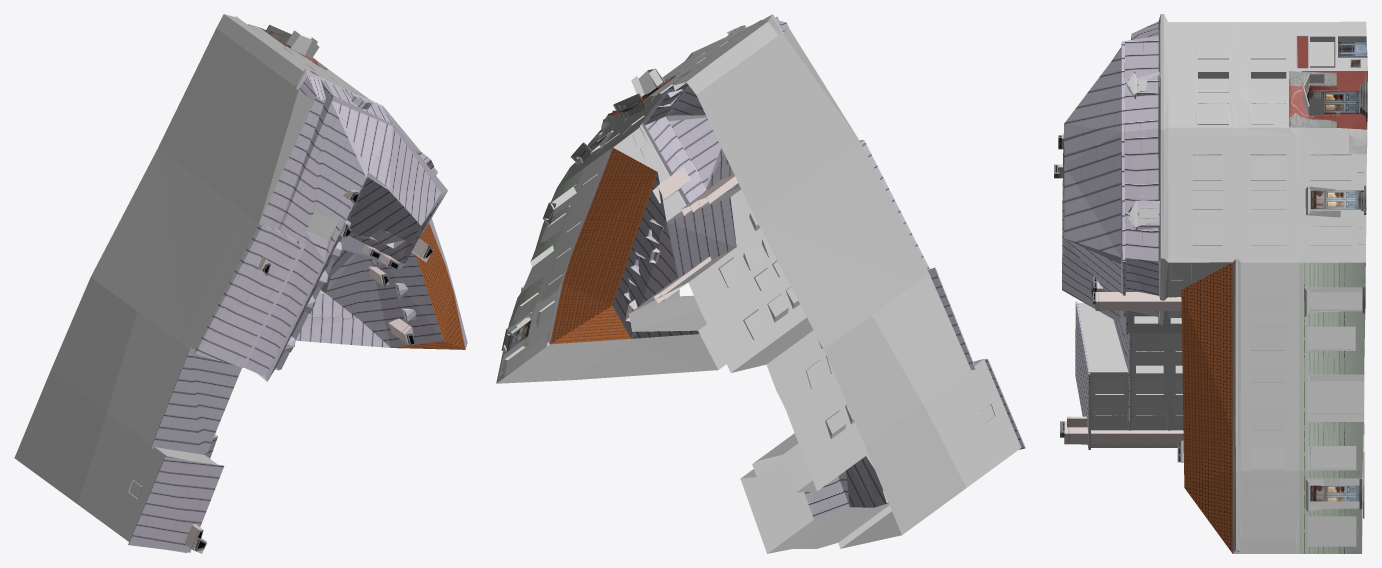
Rendered from Suur_Karja_2-origo.obj.
The picture shows the model from 3 angles, left to right: view 1: azimuth 30°, elevation 25°; view 2: azimuth 150°, elevation 25°; view 3: azimuth 270°, elevation 25°; orthographic projection. The views are drawn at different scales.
Visible parts, largest first — view 1: Suur_Karja_2; view 2: Suur_Karja_2; view 3: Suur_Karja_2.
Part boxes in pixels (x1,y1,x2,y2): Suur_Karja_2: (14, 14, 467, 553); Suur_Karja_2: (496, 14, 1025, 553); Suur_Karja_2: (1054, 14, 1367, 553).
Size of the model in its own units: 37.75 by 40 by 20.65.
